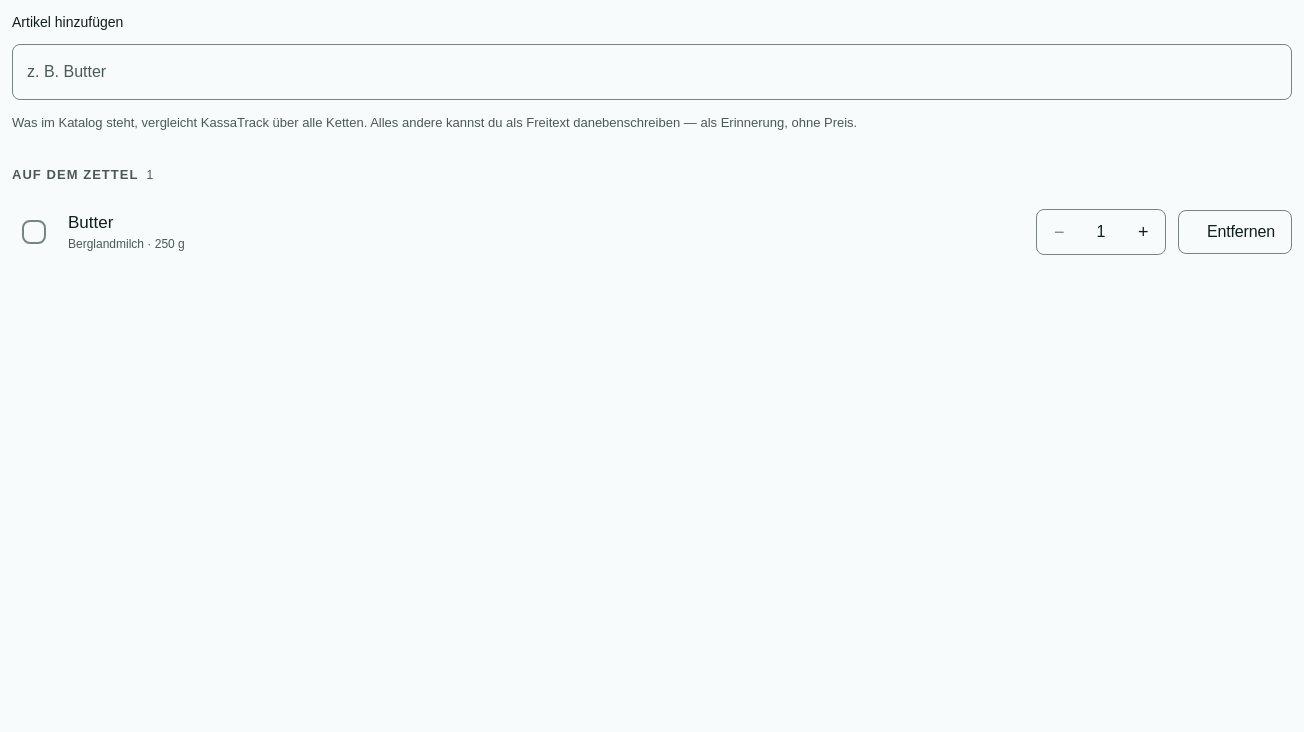
Scenario: ZettelDetail — abhaken › blendet nach dem Antippen von Abhaken das Preisformular ein
Click the button named "Abhaken".
click(34, 232)  # box x1=12 y1=210 x2=56 y2=254
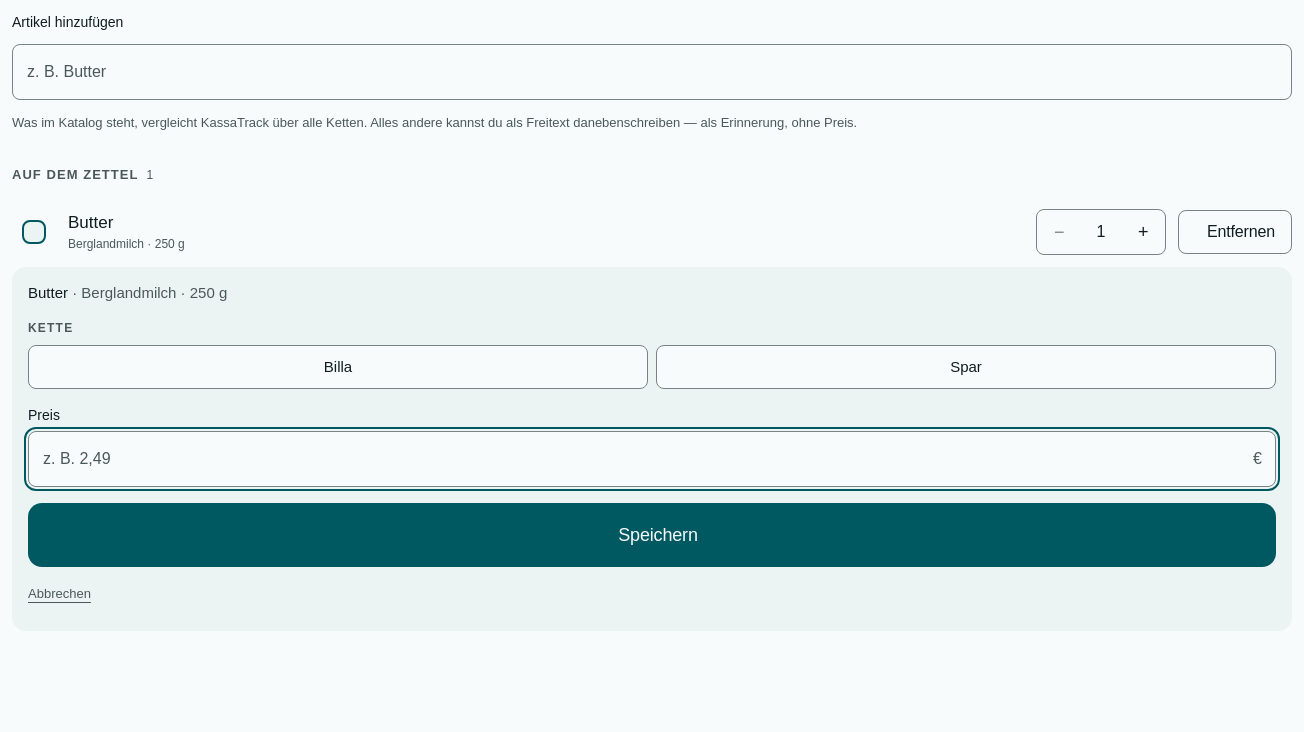
Result: the form named "Preis eintragen, Butter" is shown at x1=12 y1=267 x2=1292 y2=631
Result: the field labelled "Preis" is shown at x1=28 y1=431 x2=1276 y2=487
